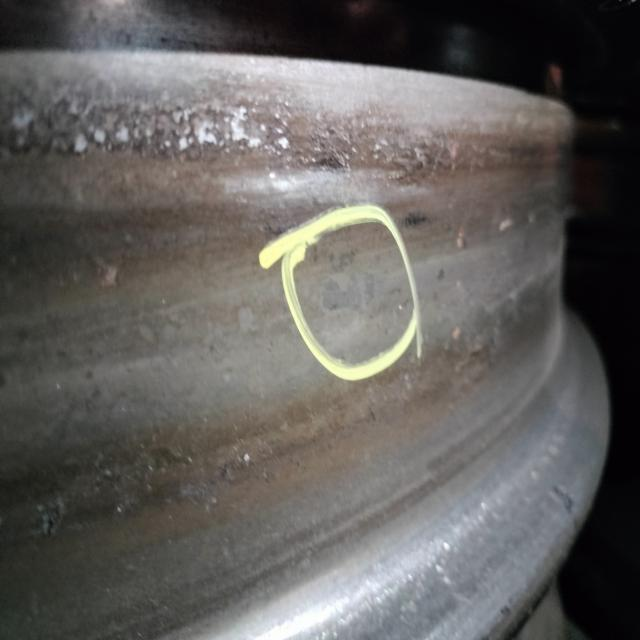Contact_Fatigue_Cracks: (156, 83, 491, 185)
flat: (314, 255, 456, 327)
